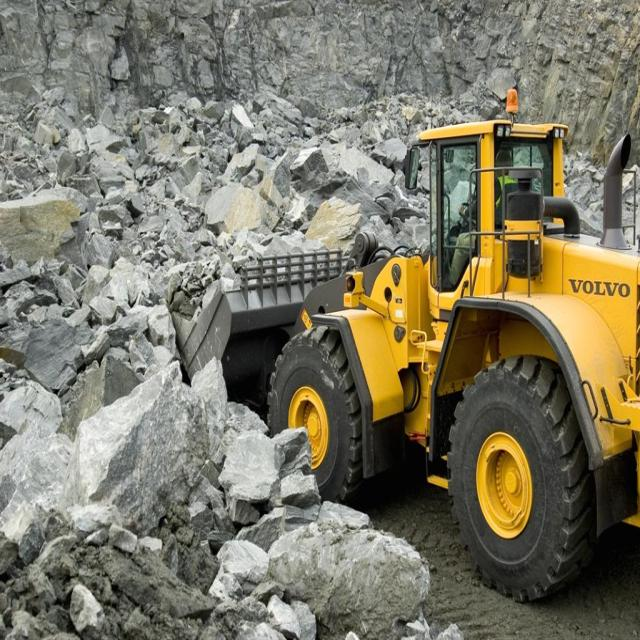bull_dozer/loader/grader: (254, 101, 640, 590)
